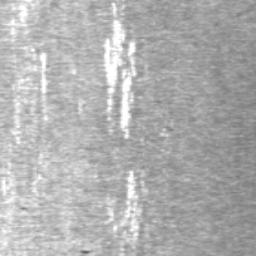White rust: (102, 2, 139, 140), (112, 170, 142, 249), (39, 53, 52, 96), (102, 206, 115, 225)
